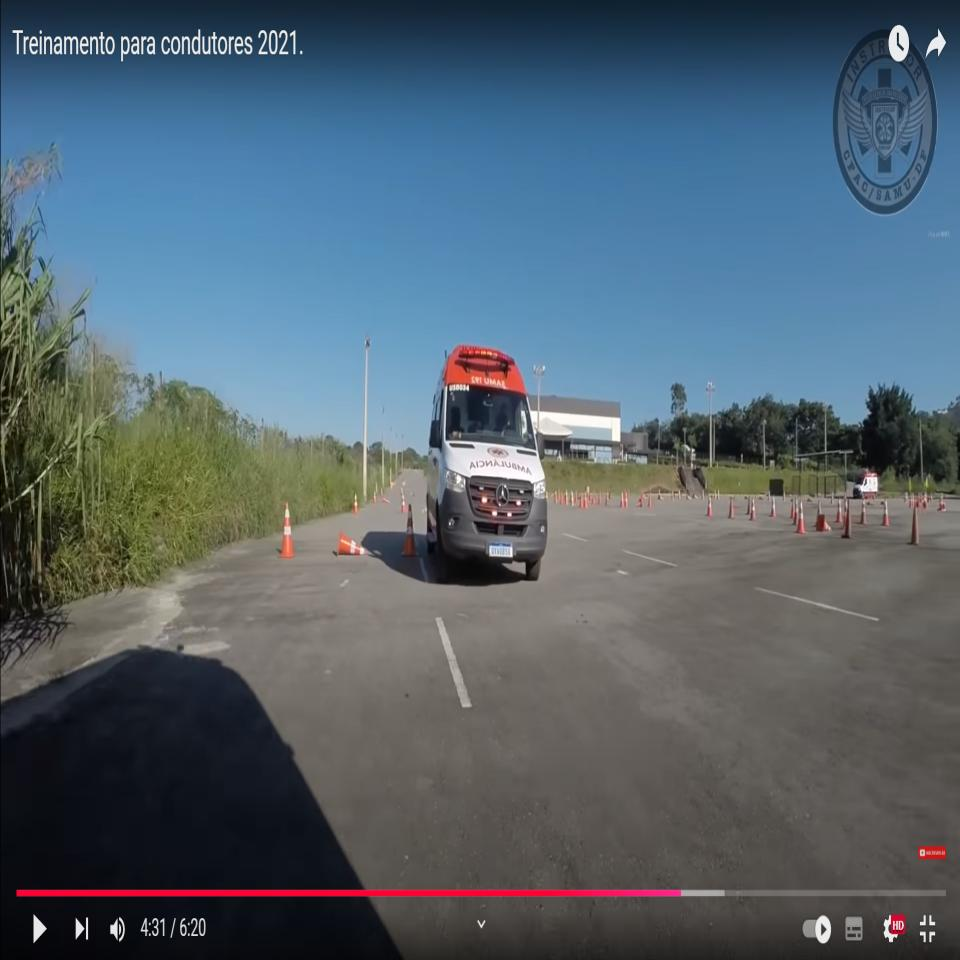bombeiro: (427, 341, 550, 583)
